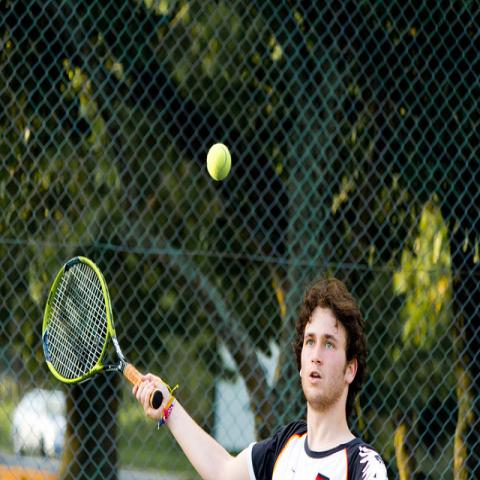car: (12, 388, 67, 458)
